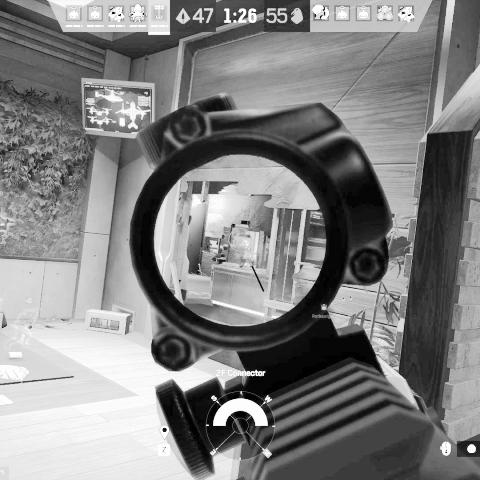Character: (238, 240, 252, 268)
Friend_label: (311, 303, 336, 320), (22, 296, 38, 312)
Head: (243, 239, 246, 243)
